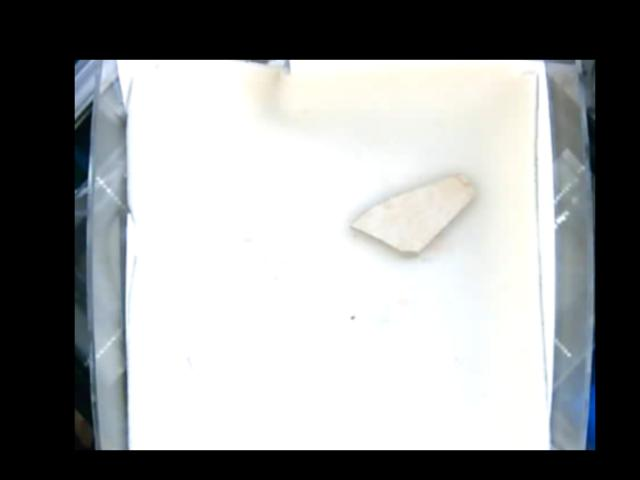China: (349, 174, 476, 255)
